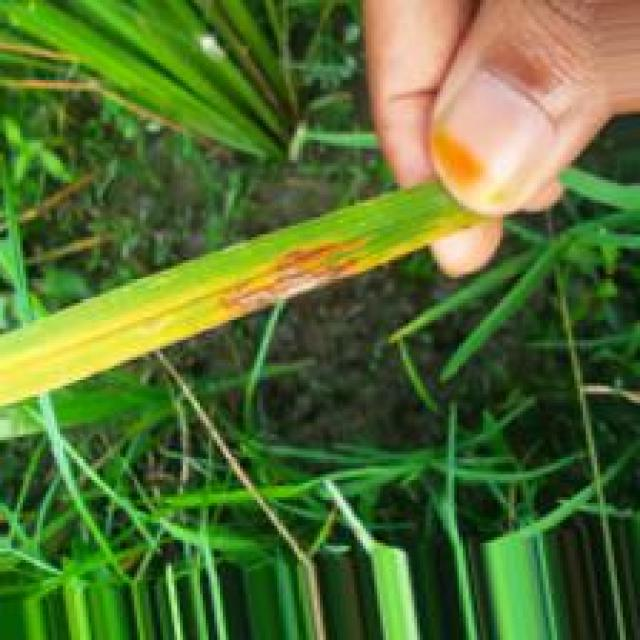Narrow_Brown_Leaf_Spot: (196, 225, 382, 326)
